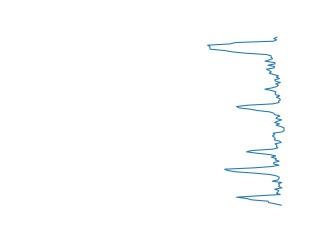distalBar: (201, 34, 283, 85)
interdistributaryEstuary: (233, 85, 286, 145)
underwaterNaturalLevee: (221, 144, 288, 208)
